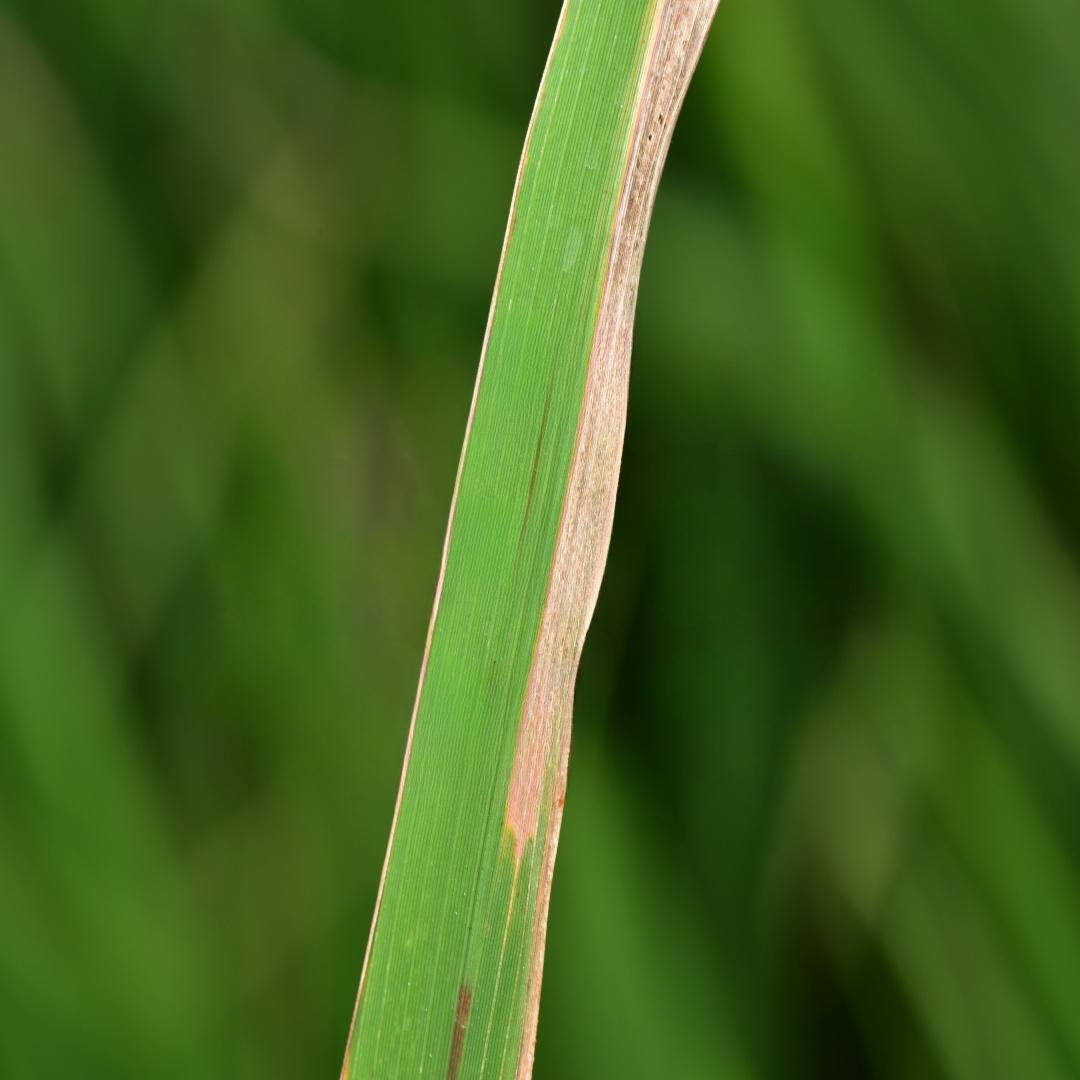BLB: (504, 0, 720, 1079)
